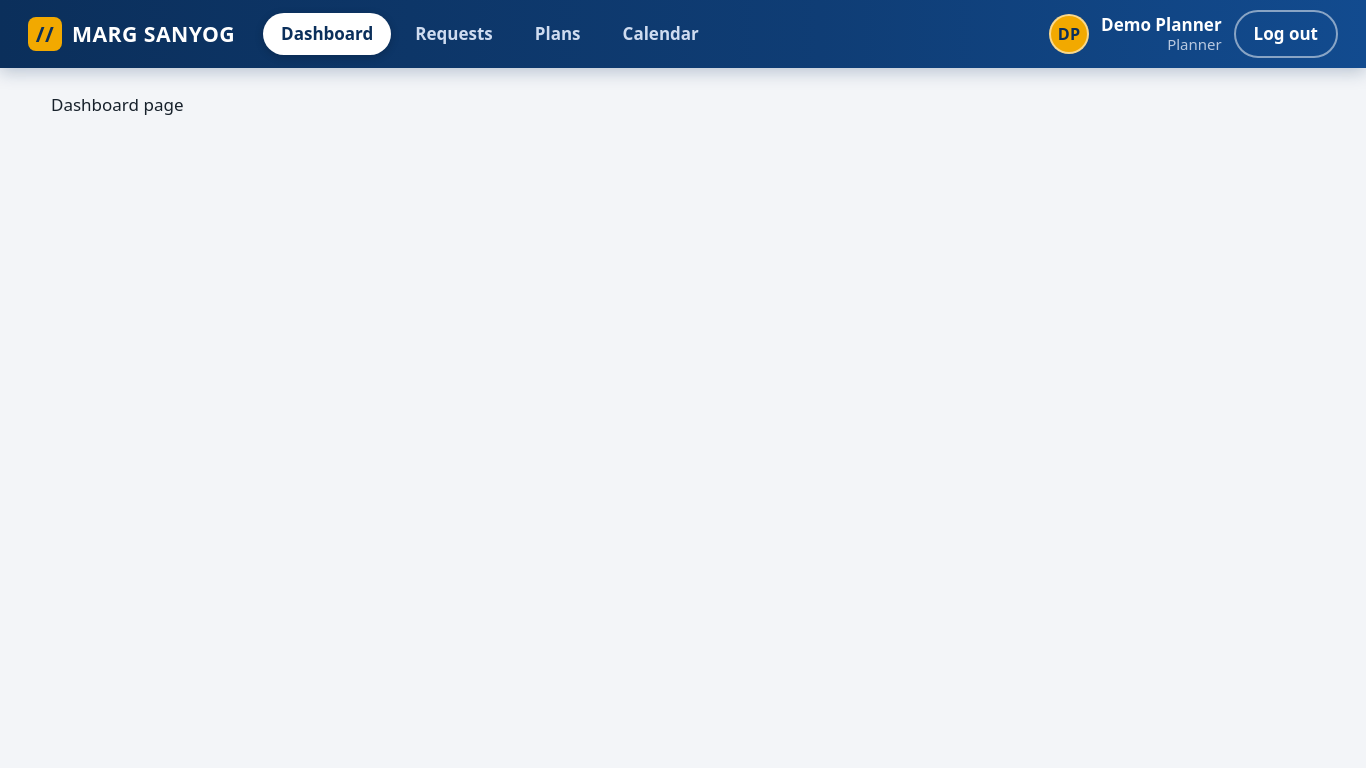
Test: protected pages › log out from the top bar
The width and height of the screenshot is (1366, 768).
Step 1. Click the button "Log out" → (1286, 34), box [1234, 10, 1338, 58]
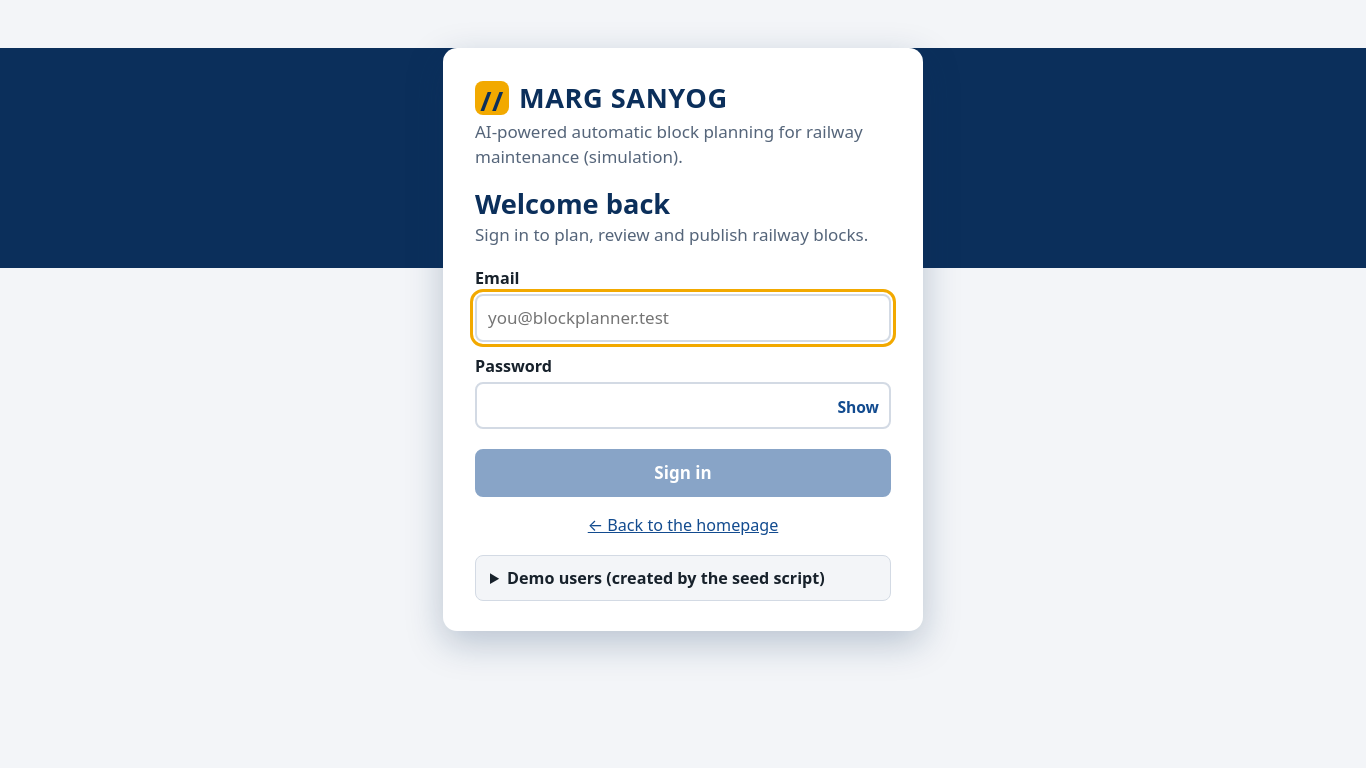
expect the button "Sign in" is shown: met, box [475, 449, 891, 497]
